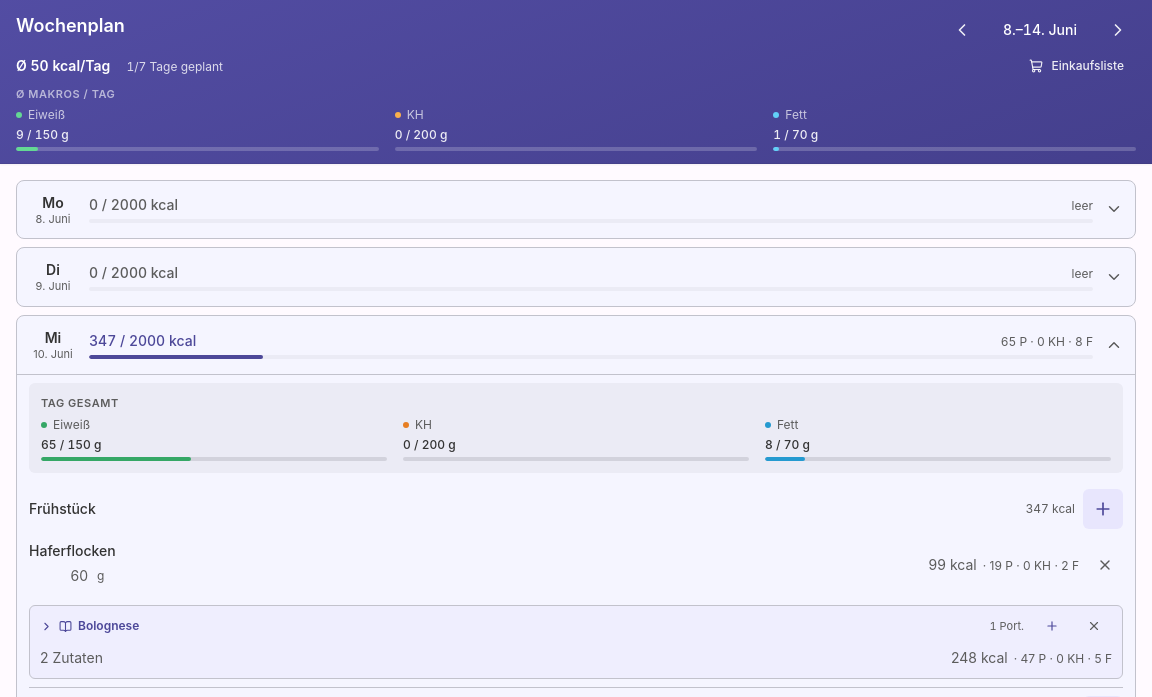
it: PlannerScreen — daily-log parity in slot bodies › replaces a batch ingredient from the planner and shows it inside the group with updated totals
This screenshot has width=1152, height=697.
Expected: the button named "Zutat zu „Bolognese“ hinzufügen" is shown, [1034,608,1070,644]
Click the button with aria-label "Zutaten von „Bolognese“" at [109, 626], box [40,614,980,638]
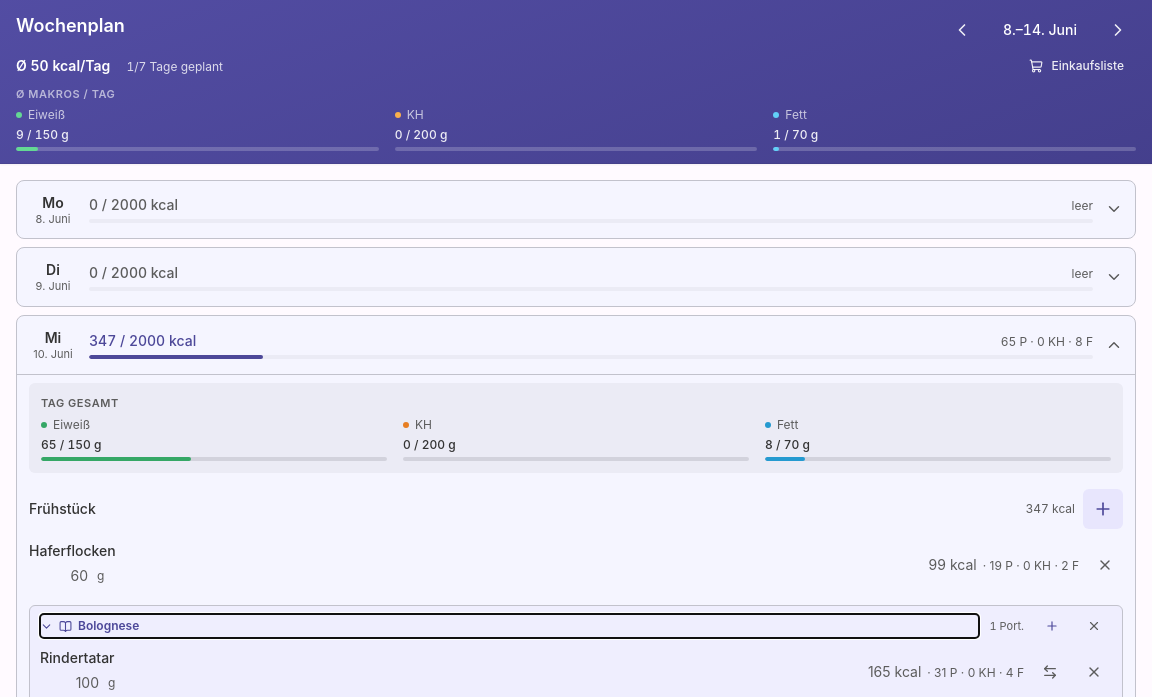
Click the button named "Zutat „Rindertatar“ ersetzen" at [1050, 672], box [1032,654,1068,690]
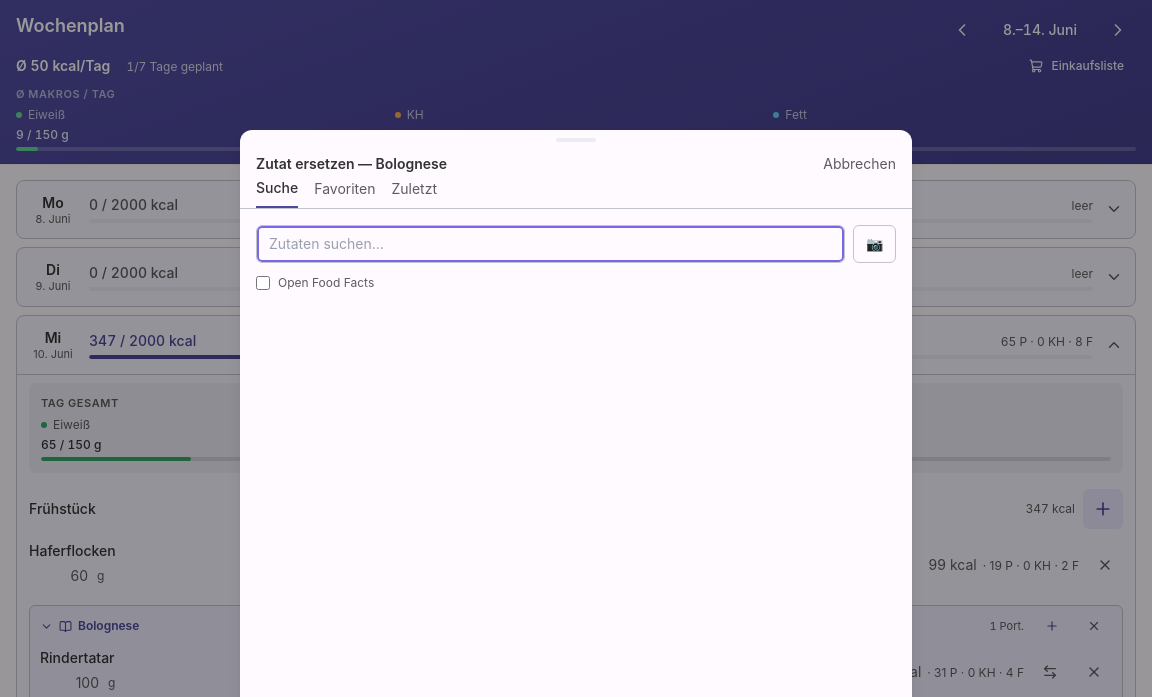
Type "tofu" into the search field with placeholder "Zutaten suchen…" at [550, 244], box [256,225,845,263]
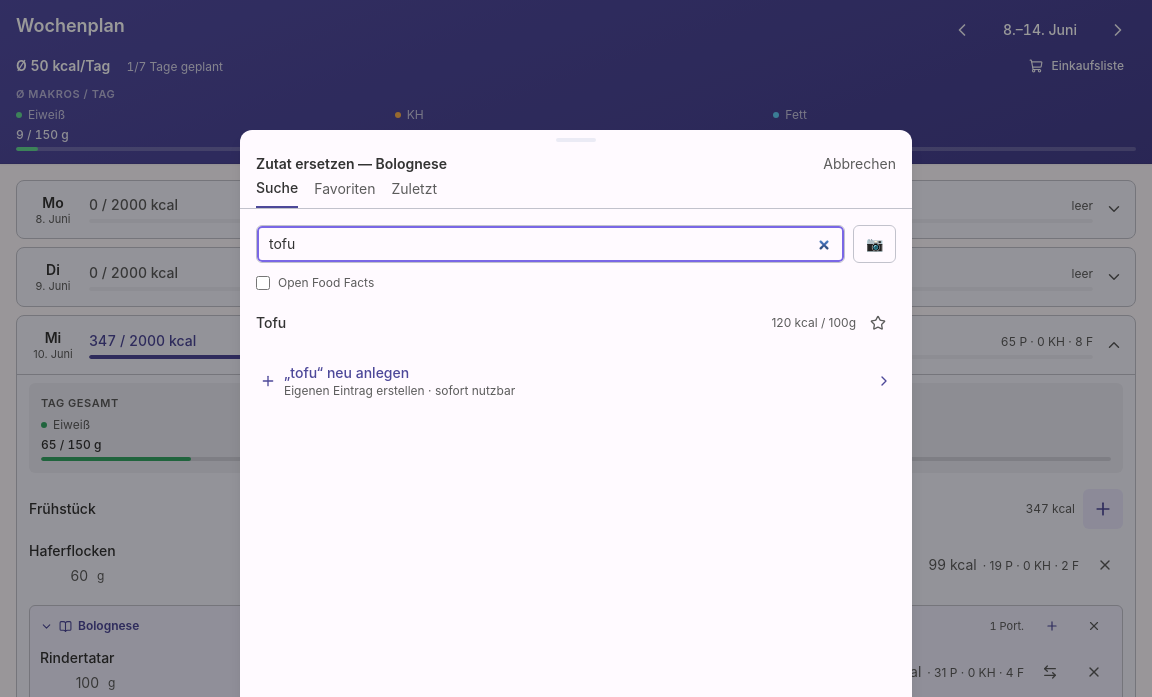
Click the button "Tofu 120 kcal / 100g" at [271, 322], box [256,303,856,343]
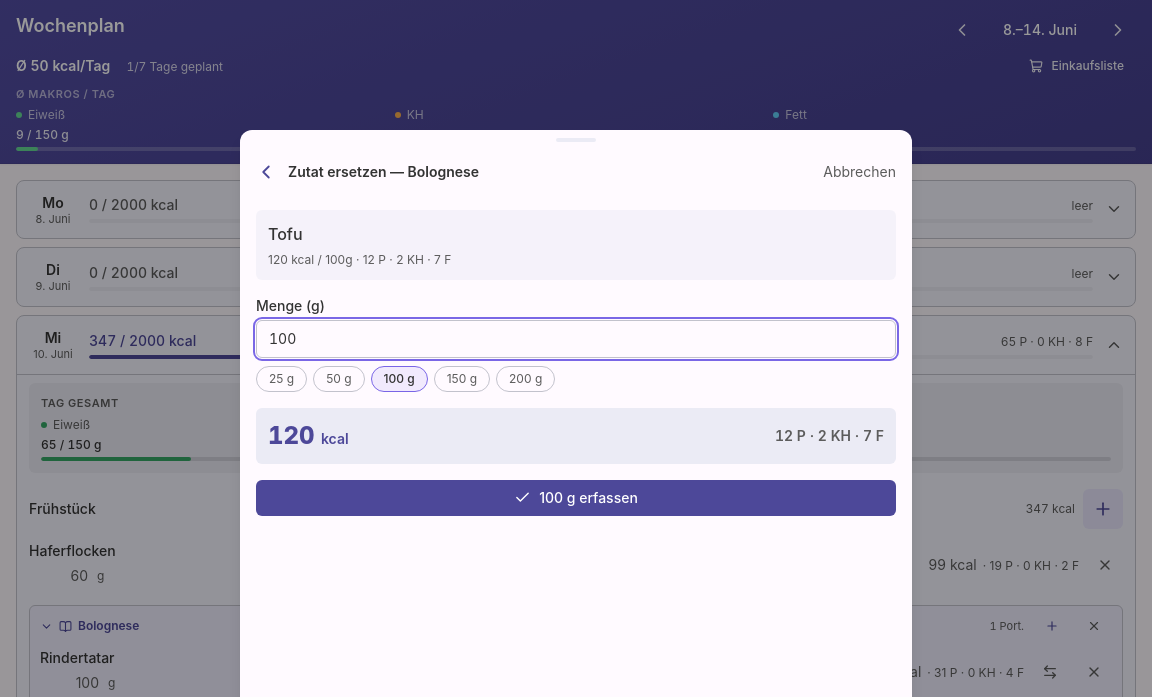
Click the button "100 g erfassen" at [576, 498], box [256,480,896,516]
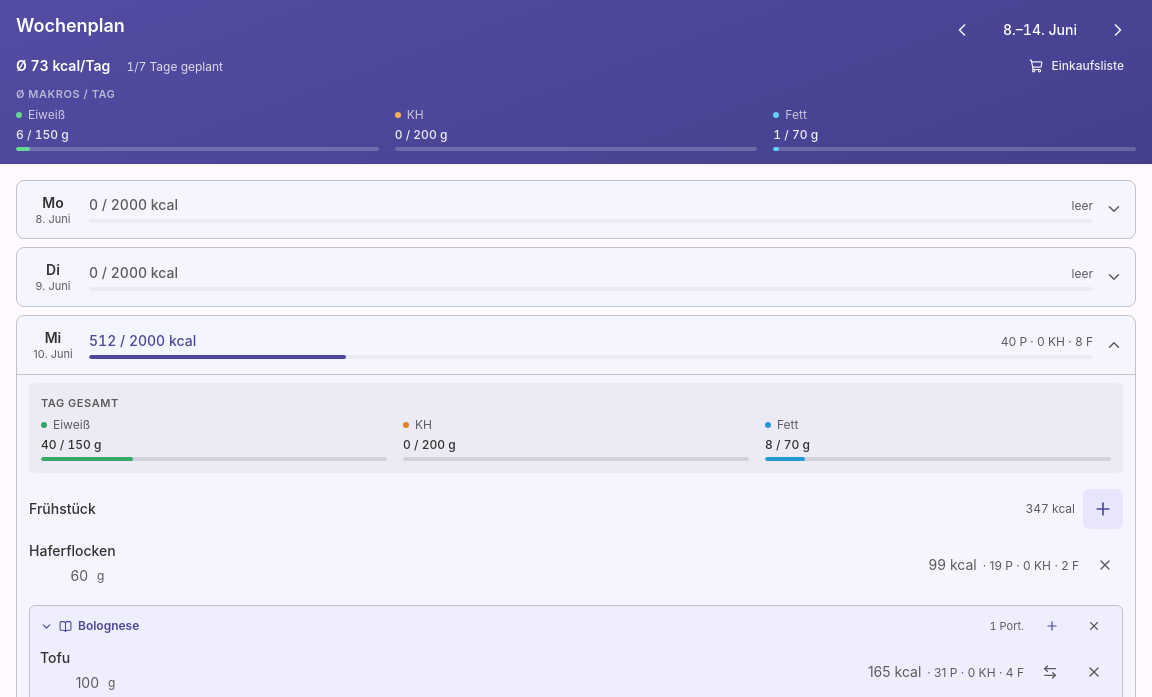
Result: the text "Tofu" is shown at [40,649,70,666]
Result: the text "Rindertatar" is gone
